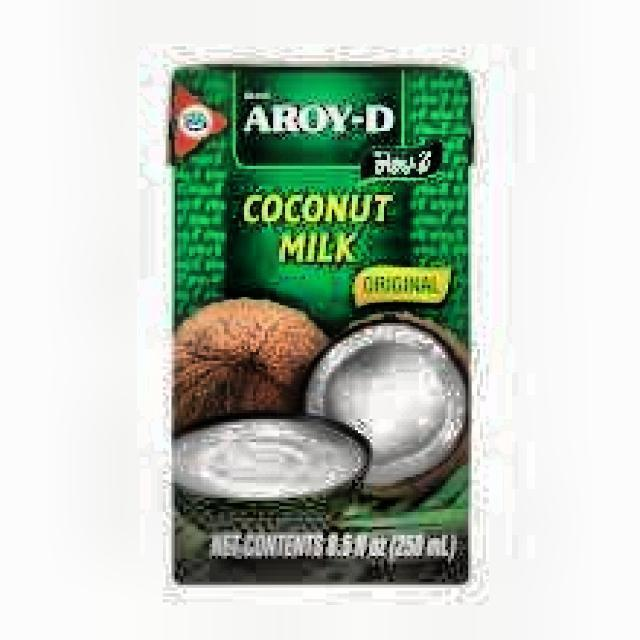cardboard: (166, 58, 474, 585)
